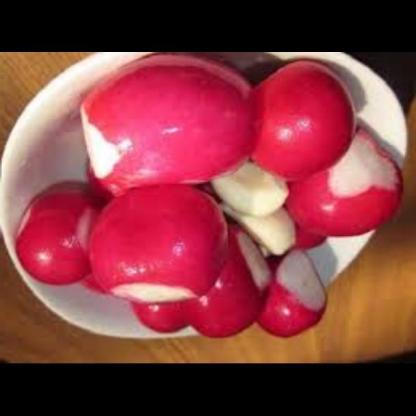rediska: (67, 59, 260, 193), (265, 132, 403, 247), (91, 196, 231, 302), (236, 65, 351, 186), (182, 217, 270, 343), (13, 181, 103, 290), (258, 254, 335, 347), (212, 201, 301, 263), (211, 163, 295, 224), (134, 292, 201, 336)
